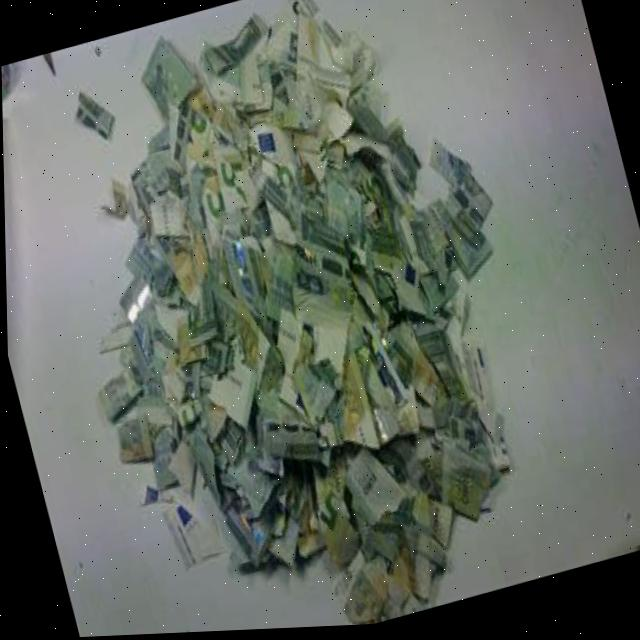banknote: (269, 231, 377, 400), (424, 438, 505, 534), (333, 440, 409, 535), (133, 31, 210, 123), (157, 488, 229, 576), (195, 8, 280, 82), (199, 352, 267, 435), (307, 485, 367, 577), (436, 203, 499, 287), (208, 136, 263, 222), (68, 83, 121, 152), (190, 171, 234, 249), (92, 363, 147, 422), (256, 21, 309, 80), (368, 336, 405, 415), (144, 193, 198, 245), (183, 104, 221, 167)
